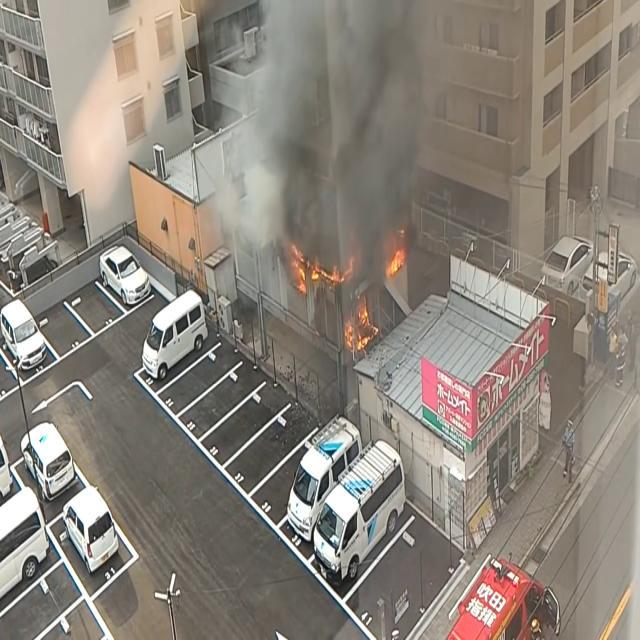Fire: (282, 238, 346, 293), (344, 290, 378, 356), (386, 240, 407, 282)
Smoke: (198, 1, 452, 290)
